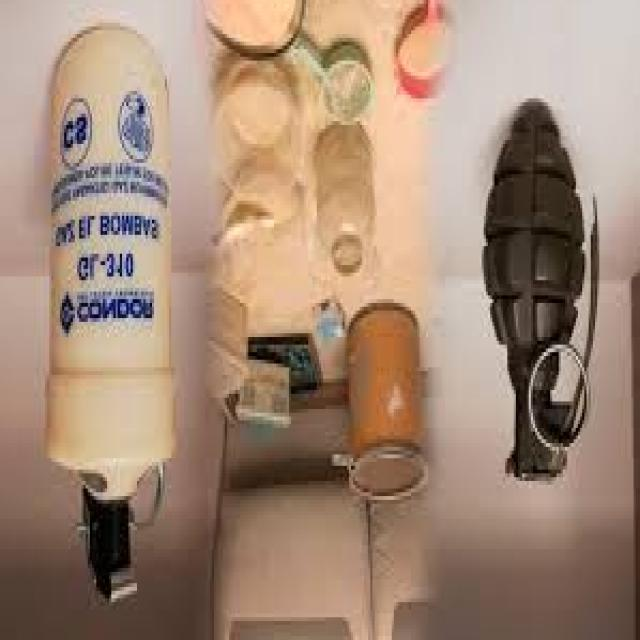grenade: (481, 93, 604, 493)
